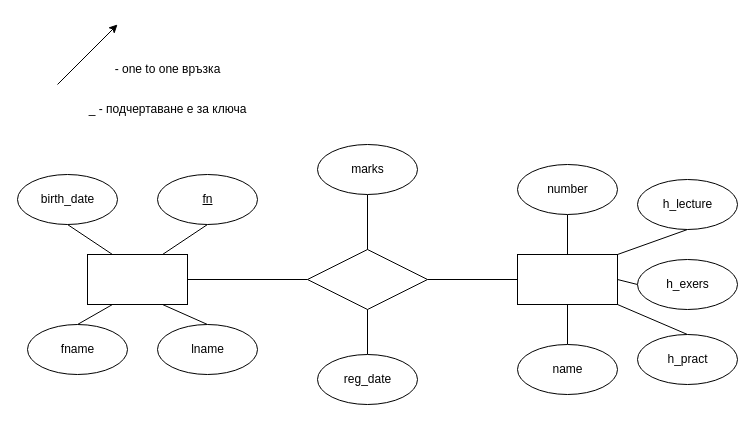
Image size: 755x422. Some labels were removed from this diagram. Each missing label, with the centre of its shape:
"Courses" belongs at point 567,279.
"enroll" belongs at point 367,279.
"Students" belongs at point 137,279.
